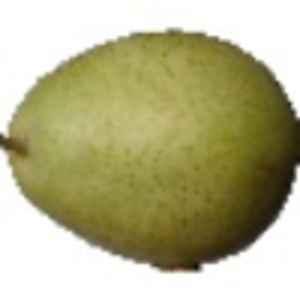pera: (1, 28, 300, 275)
